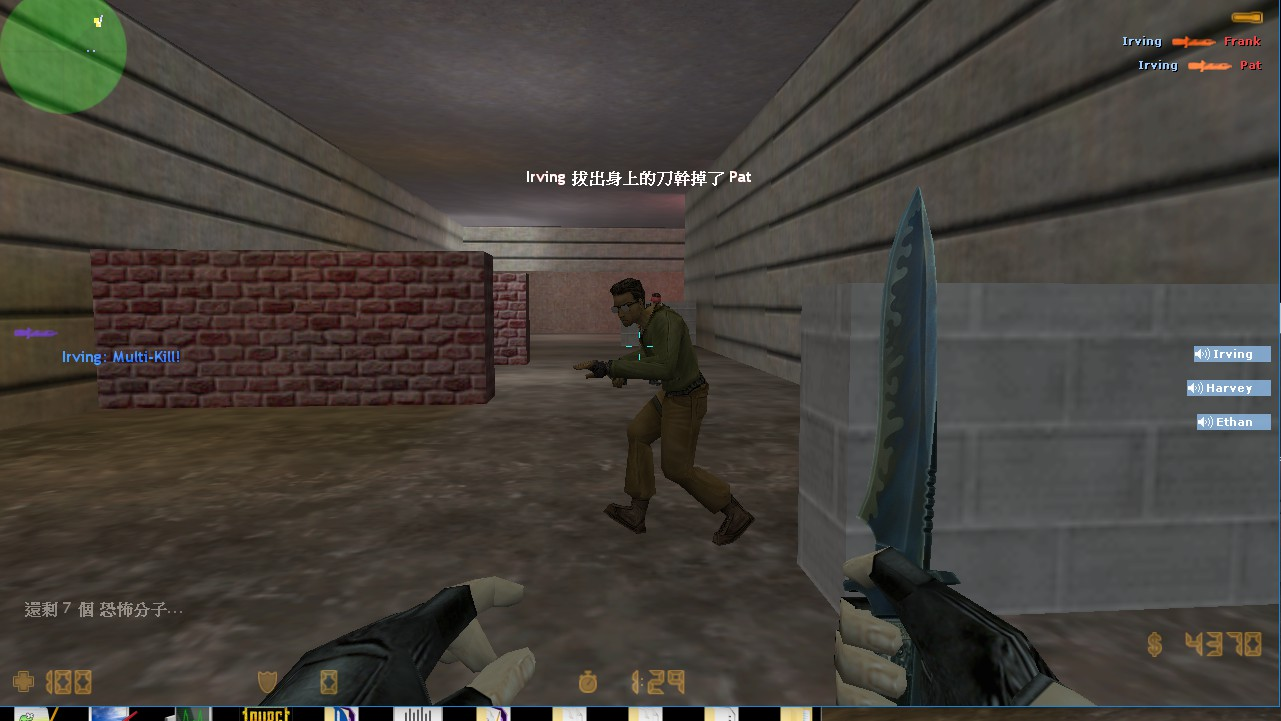person: (586, 278, 740, 545)
